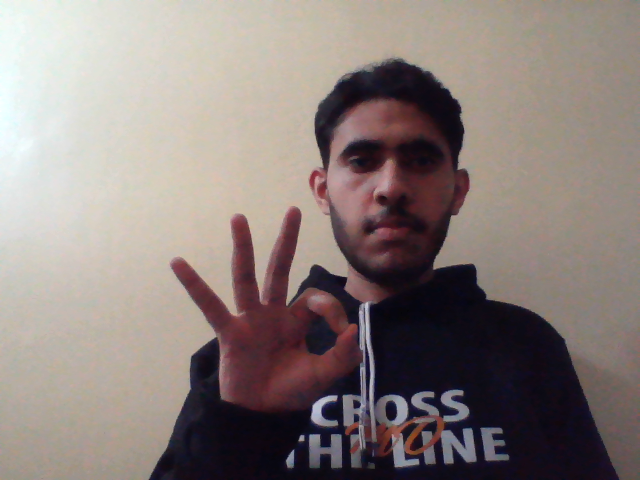F: (159, 204, 367, 419)
